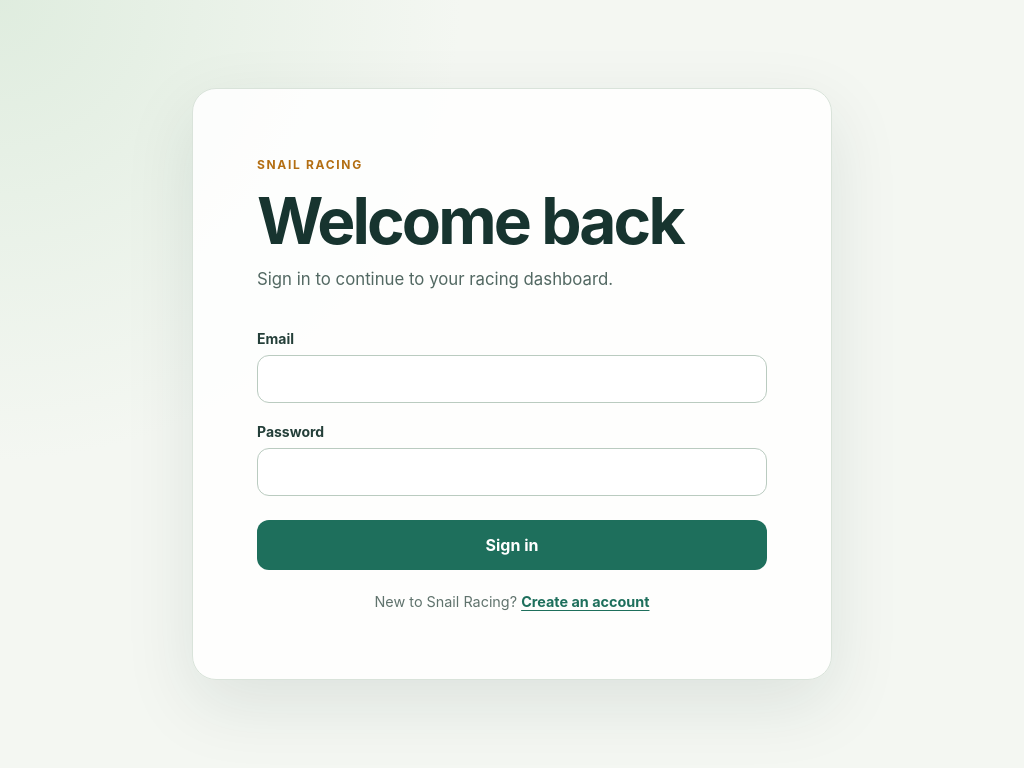
Test: LoginPage › authenticates a registered user with valid credentials
Type "ADA@EXAMPLE.COM" into the field labelled "Email" at (512, 379), box [257,355,767,403]
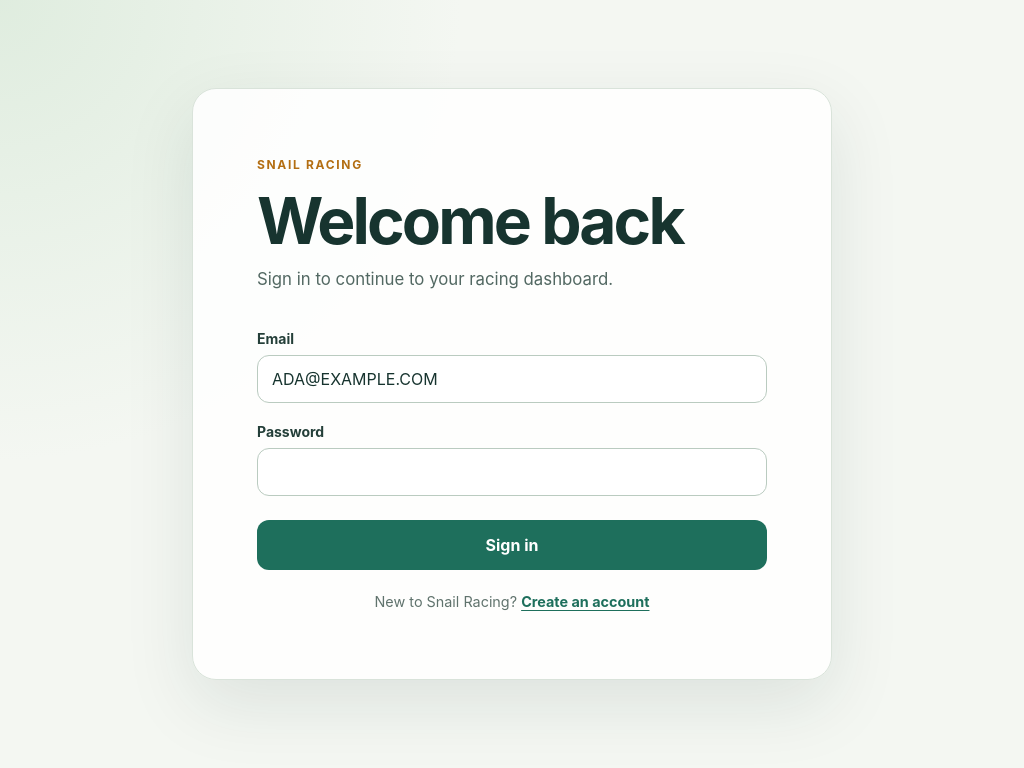
Type "Caracol123" into the password field labelled "Password" at (512, 472), box [257,448,767,496]
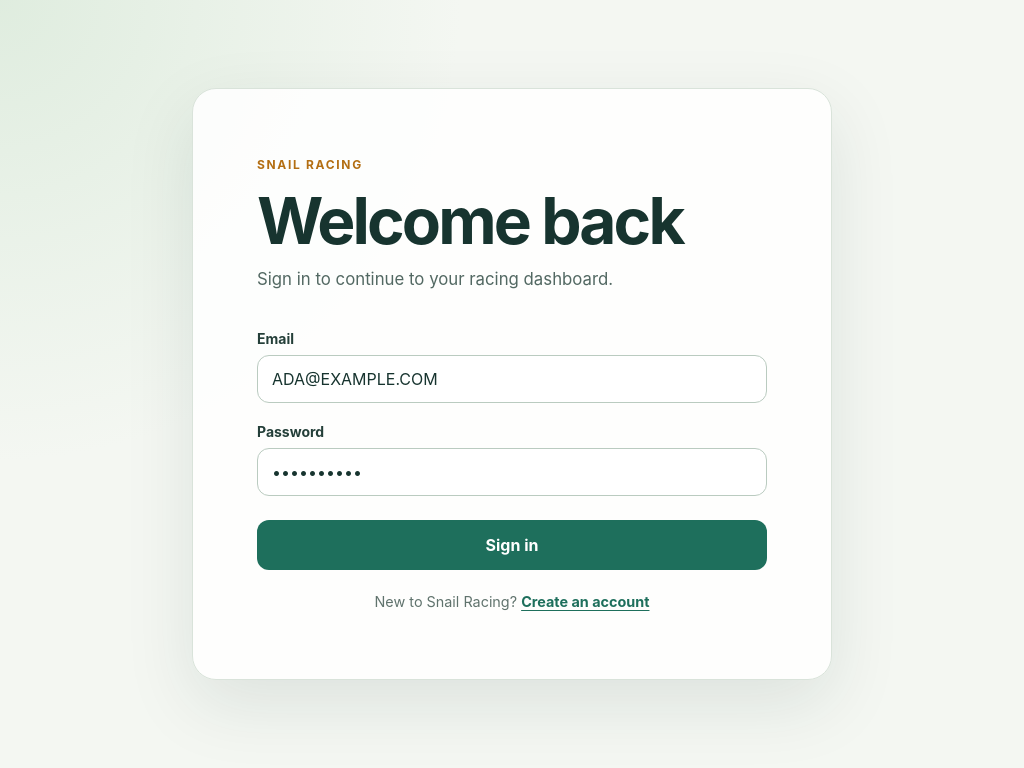
Click the button "Sign in" at (512, 545), box [257,520,767,570]
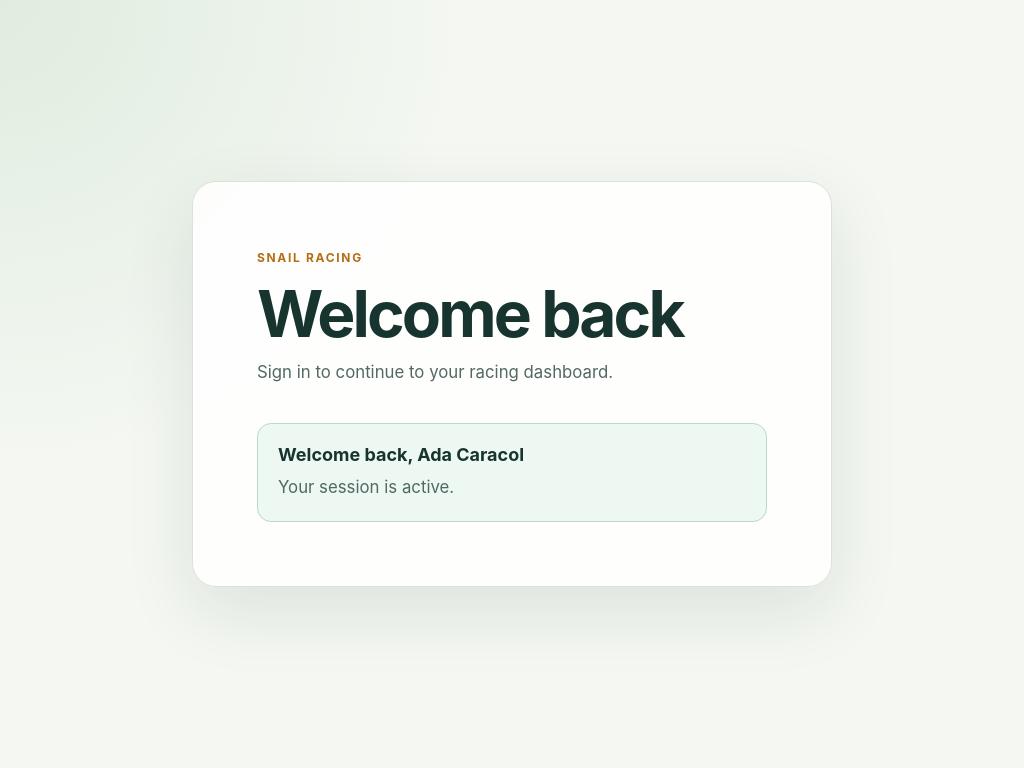
Expected: the text "Welcome back, Ada Caracol" is shown, [278,444,524,464]
